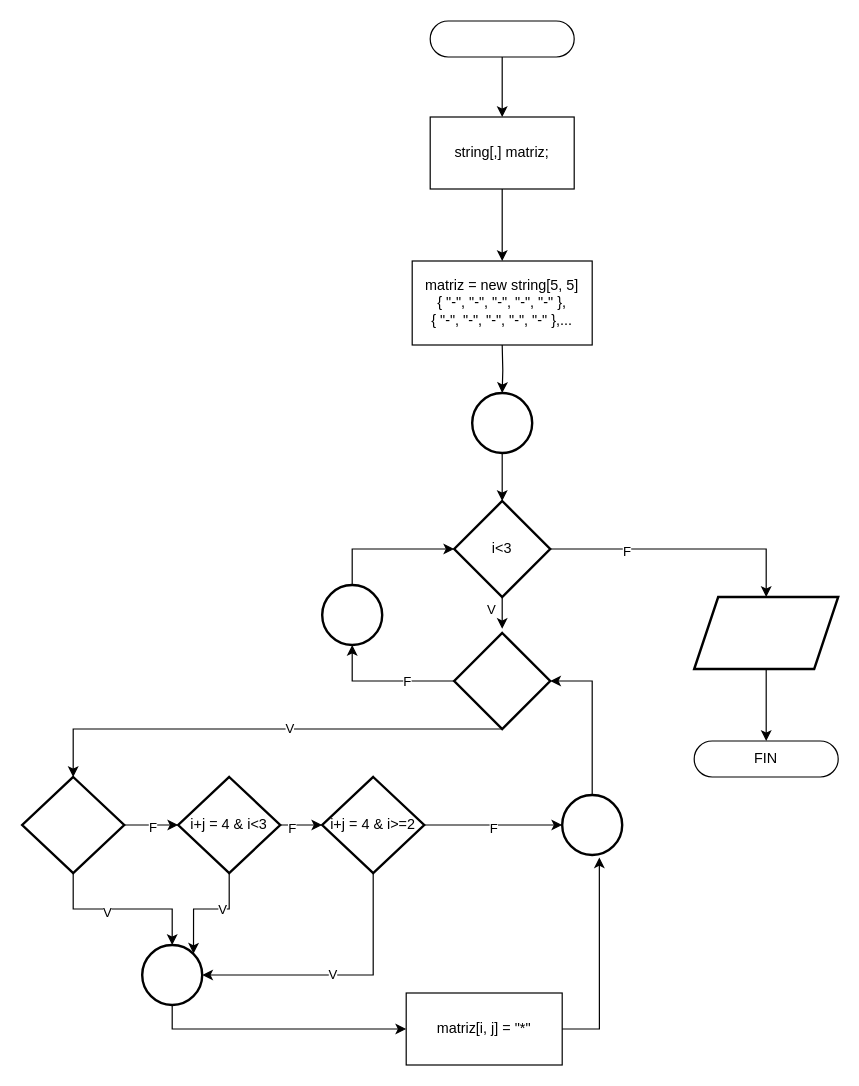
This 859x1086 diagram has some shape labels left out. The centre of each missing label's shape, as x and y in pixels:
i = j & i<3: the point at 72,824
INICIO: the point at 501,38
j<5: the point at 501,680
matriz: the point at 765,632
